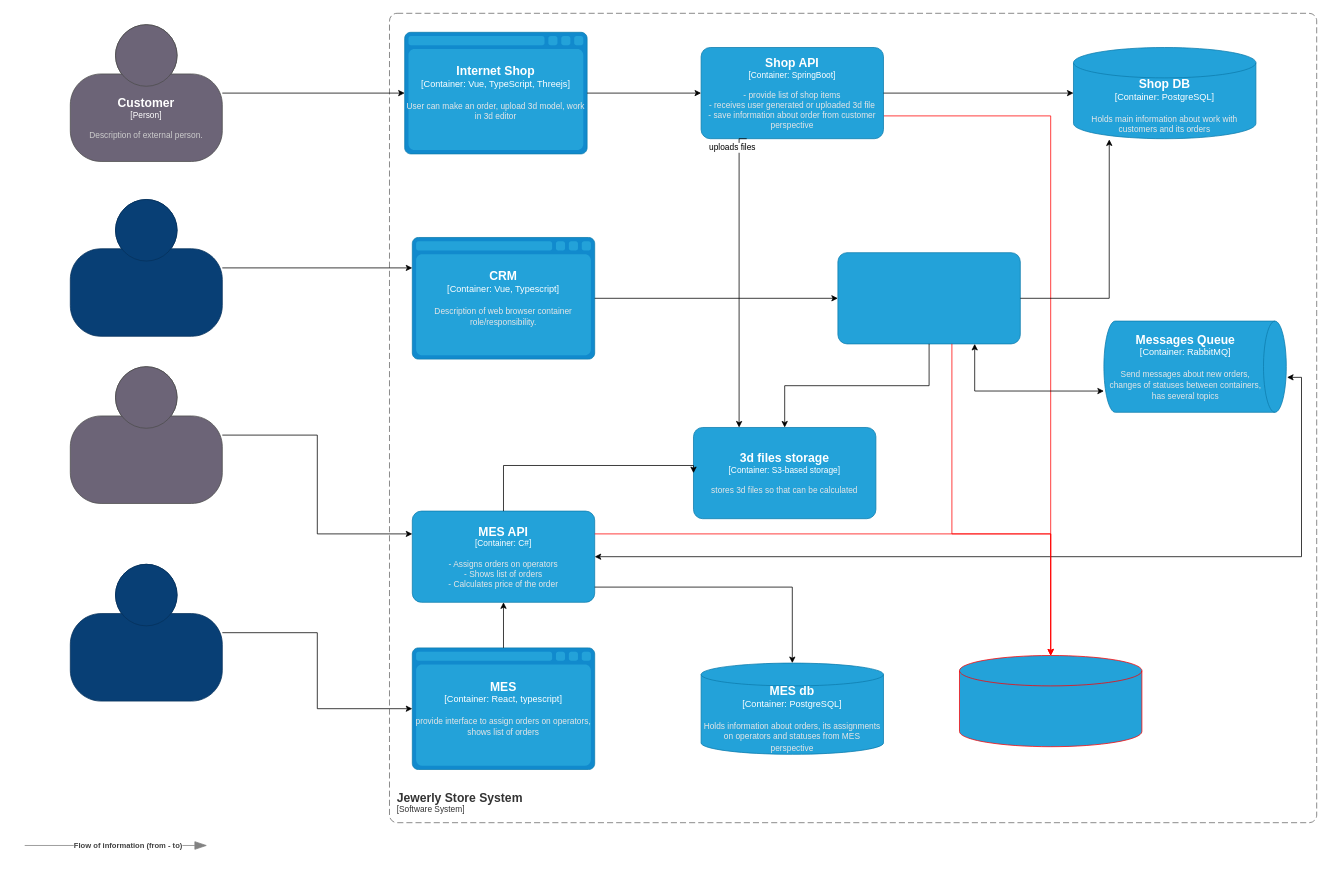
This 1330x871 diagram has some shape labels left out. Here are the shapes that lost their labels. From the top down, the centre of each, then its label:
At pixel 146 267: "Seller [Person] Operates with order, confirms manufacturing for the user".
At pixel 928 298: "CRM API [Container: SpringBoot] Description of container role/responsibility.".
At pixel 146 435: "API user [Person] Description of external person.".
At pixel 146 632: "Operator [Person] Takes order in work, manufactures jewerly".
At pixel 1050 701: "Jaeger [Container: Jaeger] Store traces".
